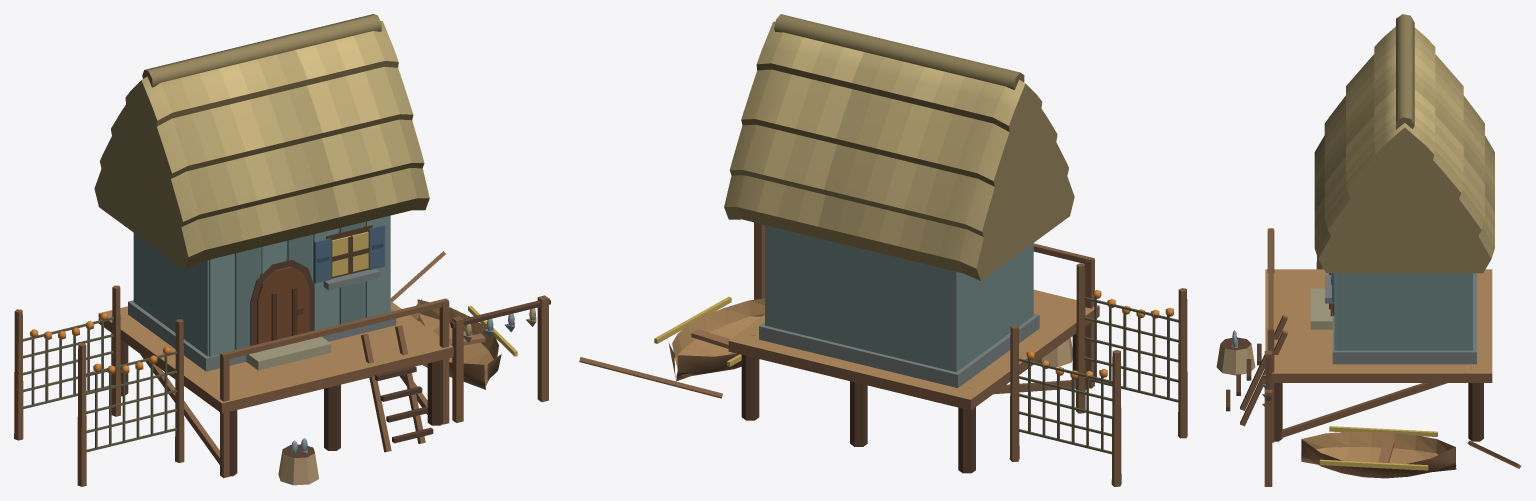
Rendered from fisher.glb.
The picture shows the model from 3 angles, left to right: view 1: azimuth 30°, elevation 25°; view 2: azimuth 150°, elevation 25°; view 3: azimuth 270°, elevation 25°; orthographic projection. The views are drawn at different scales.
Parts seen in each view (by area): view 1: body, body_nh; view 2: body, body_nh; view 3: body.
Part boxes in pixels (x1=…): body: x1=14, y1=14, x2=550, y2=486; body_nh: x1=23, y1=317, x2=177, y2=452; body: x1=579, y1=14, x2=1187, y2=486; body_nh: x1=1018, y1=296, x2=1178, y2=454; body: x1=1216, y1=14, x2=1521, y2=486.
Size of the model in its own units: 3.89 by 2.78 by 2.35.
